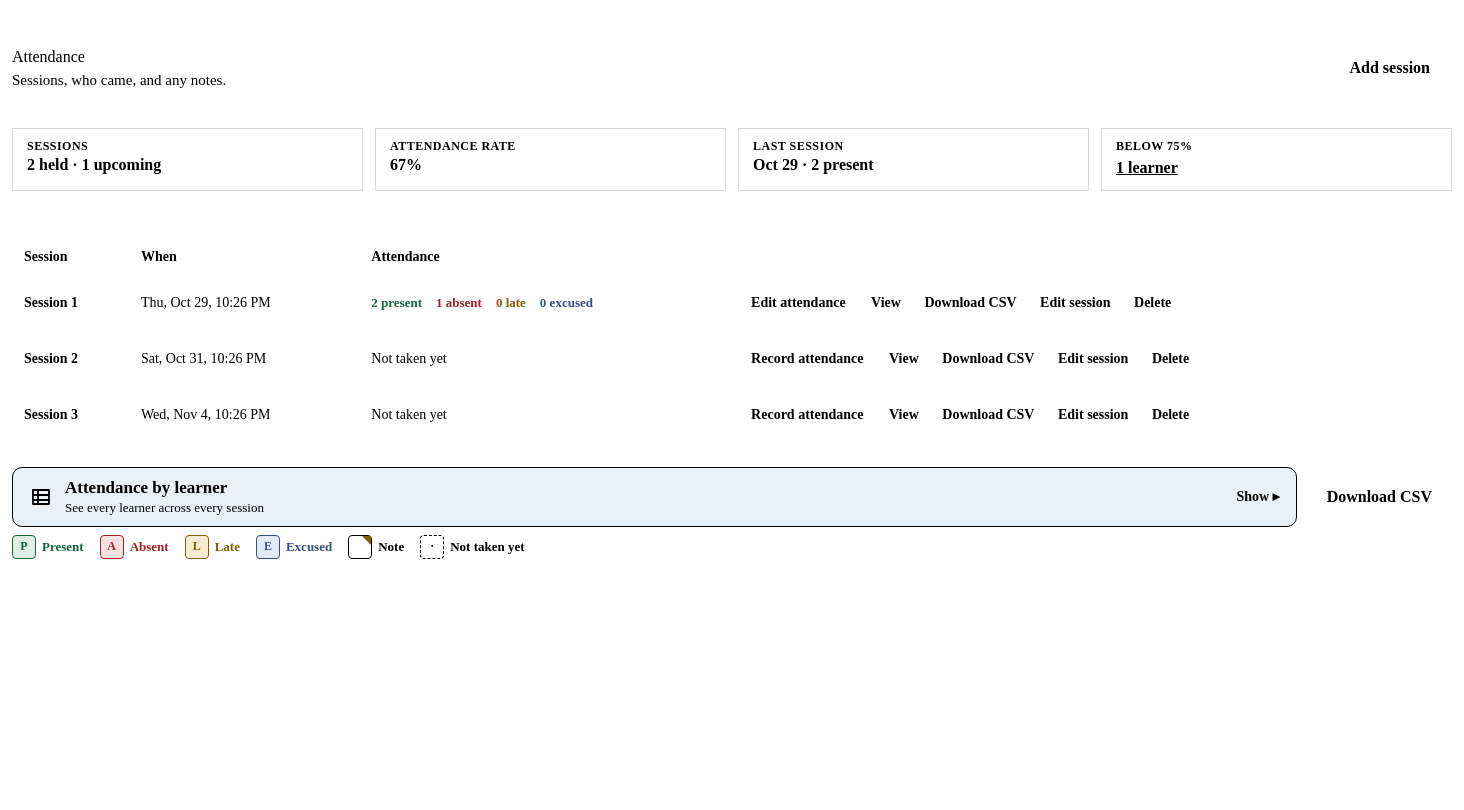
Test: status strip › clicking the below-threshold count filters the grid to those learners, and clears
This screenshot has width=1464, height=810.
Click the button "Attendance by learner" at (146, 487), box [12,467,1297,527]
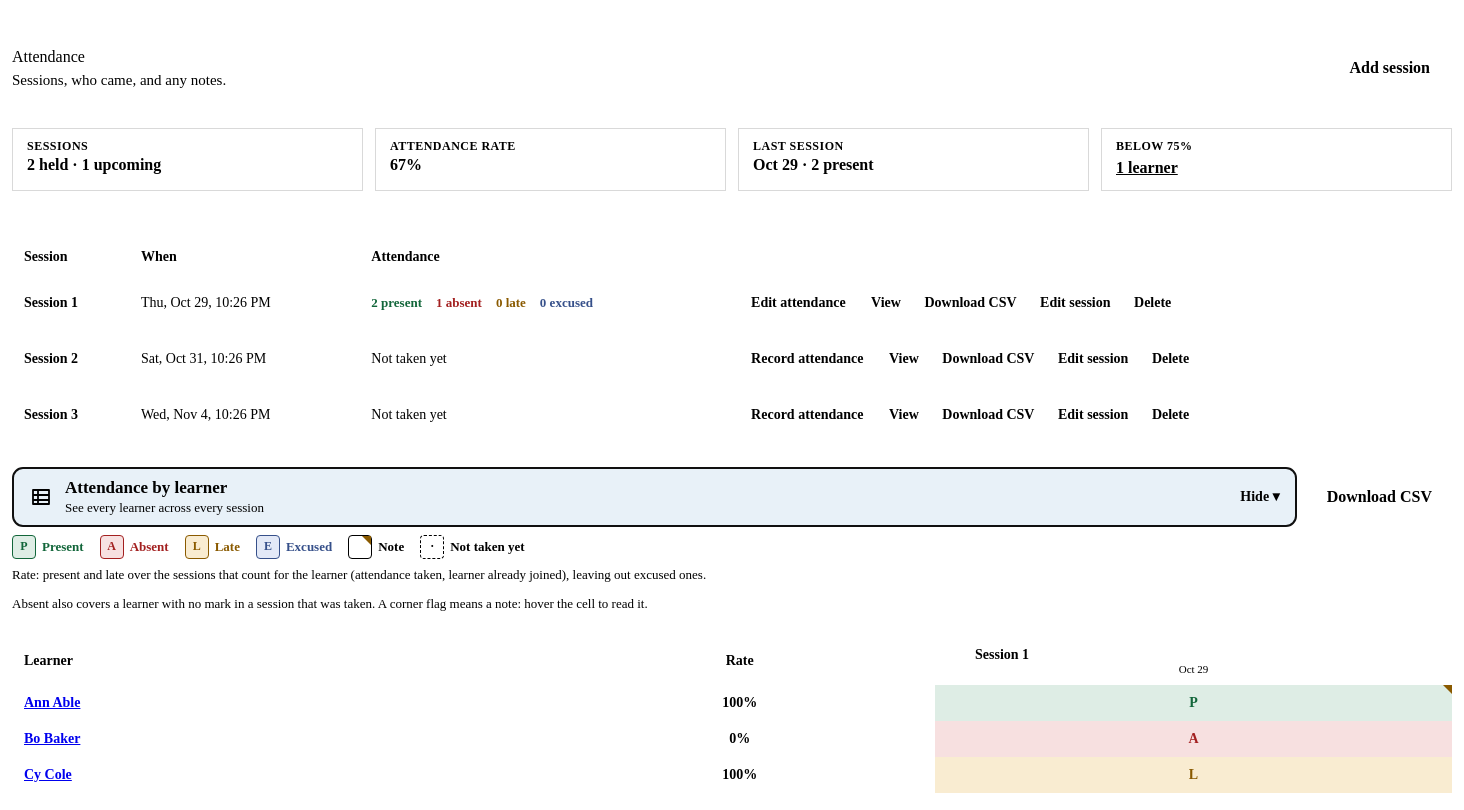
Now the number of links is 3, box [24,695,80,710]; [24,731,80,746]; [24,767,72,782]
Click the button "1 learner" at (1147, 168), box [1116,156,1178,180]
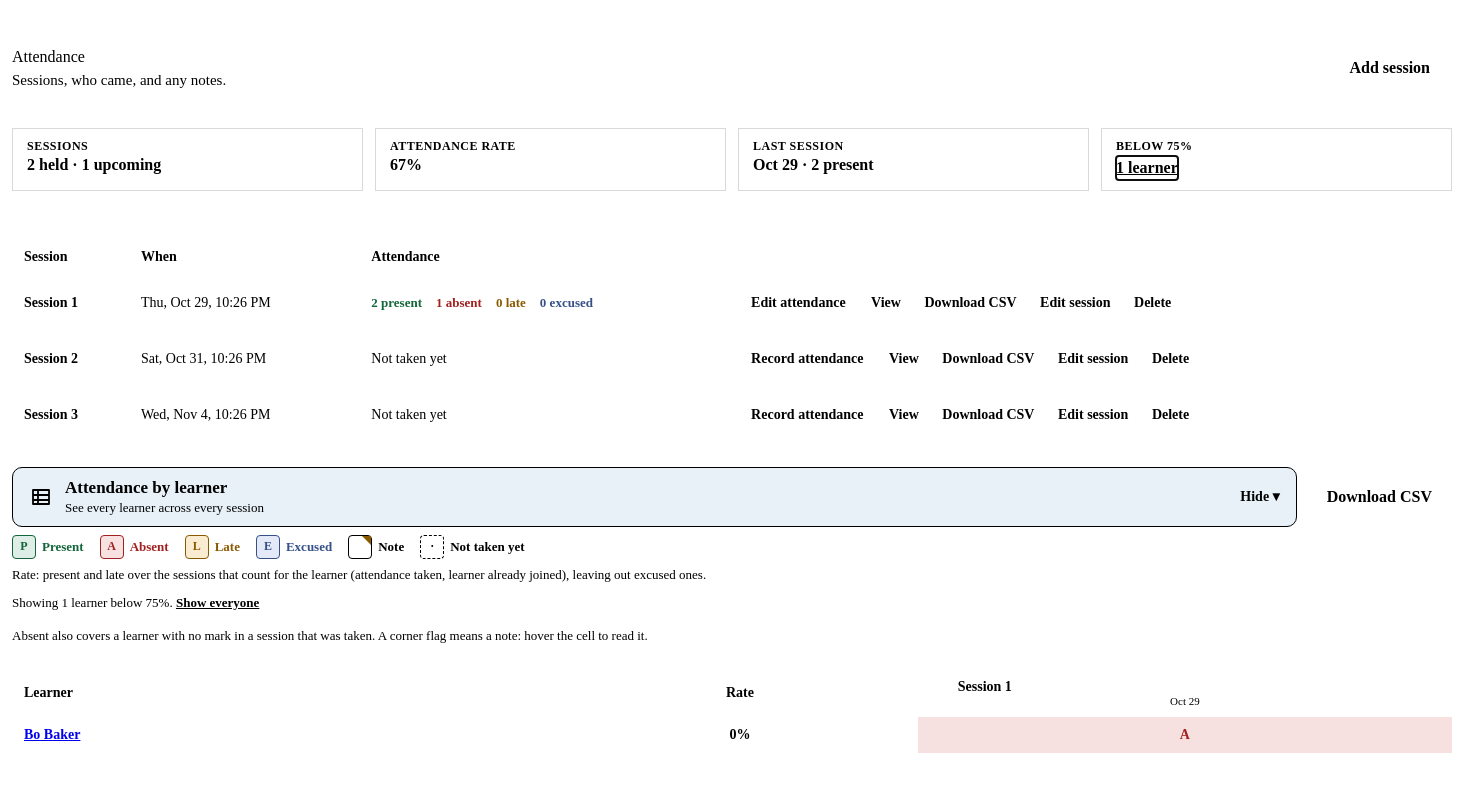
Now the links read "Bo Baker", in this order, box [24,727,80,742]
Click the button "Show everyone" at (218, 603), box [176,591,259,615]
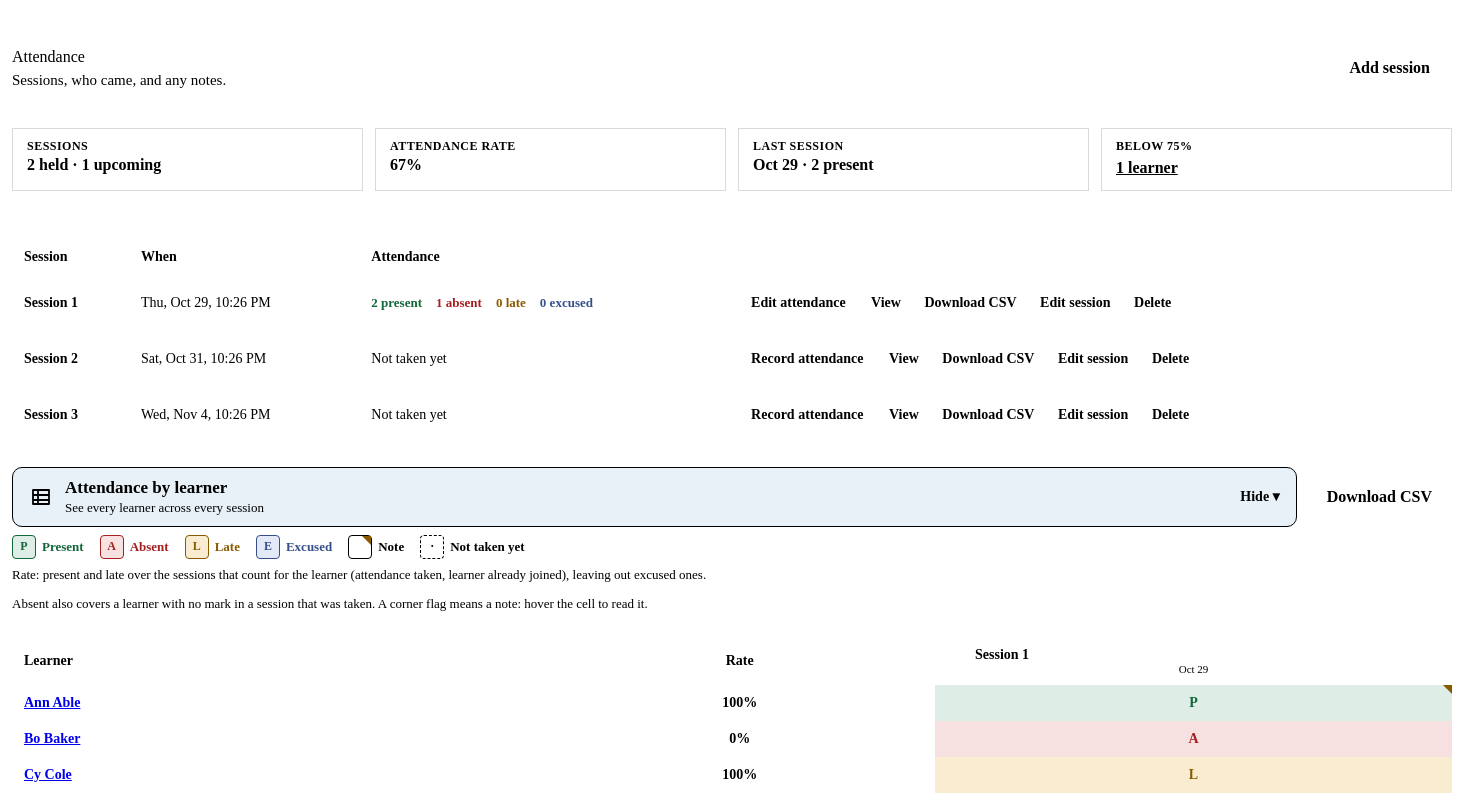
Now the number of links is 3, box [24,695,80,710]; [24,731,80,746]; [24,767,72,782]
